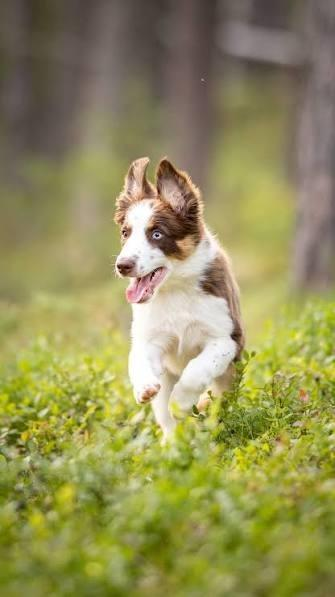puppy-dog: (113, 153, 245, 442)
